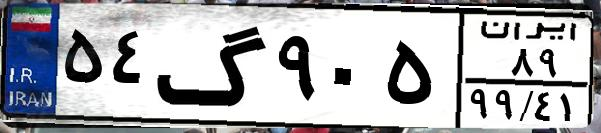0: (330, 28, 385, 110)
1: (560, 70, 590, 125)
4: (110, 28, 156, 98), (535, 70, 560, 125)
5: (385, 28, 445, 110), (57, 26, 110, 100)
8: (508, 27, 537, 80)
9: (270, 28, 330, 110), (537, 27, 568, 80), (470, 70, 495, 125), (495, 70, 520, 125)
گ: (156, 12, 270, 120)
